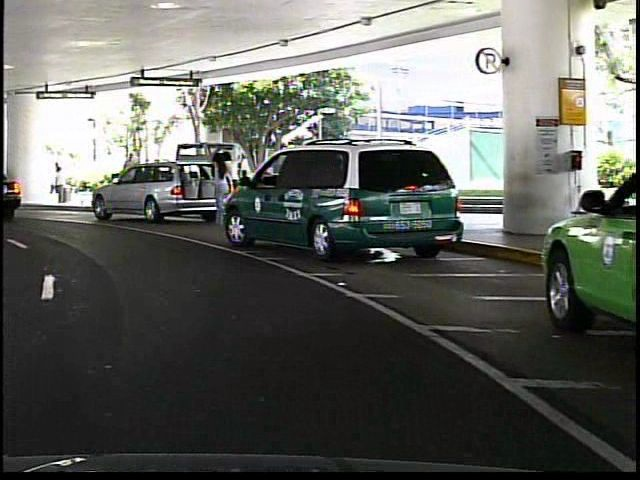person: (208, 148, 228, 226), (117, 149, 138, 203)
